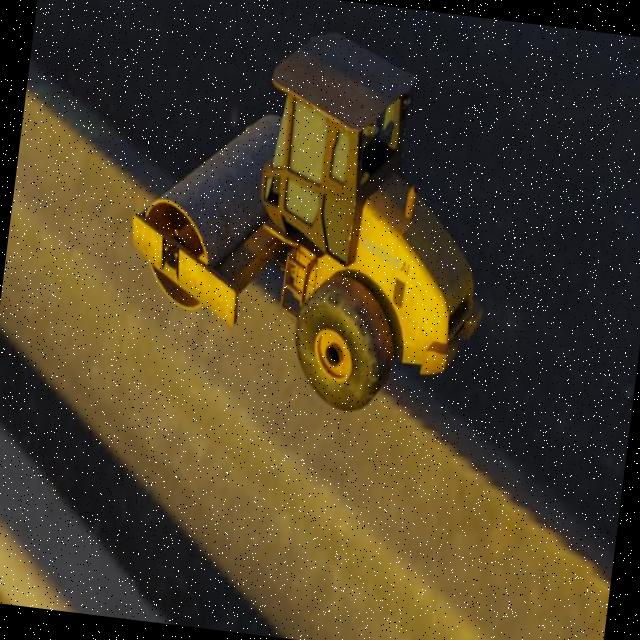Roller: (112, 9, 514, 426)
